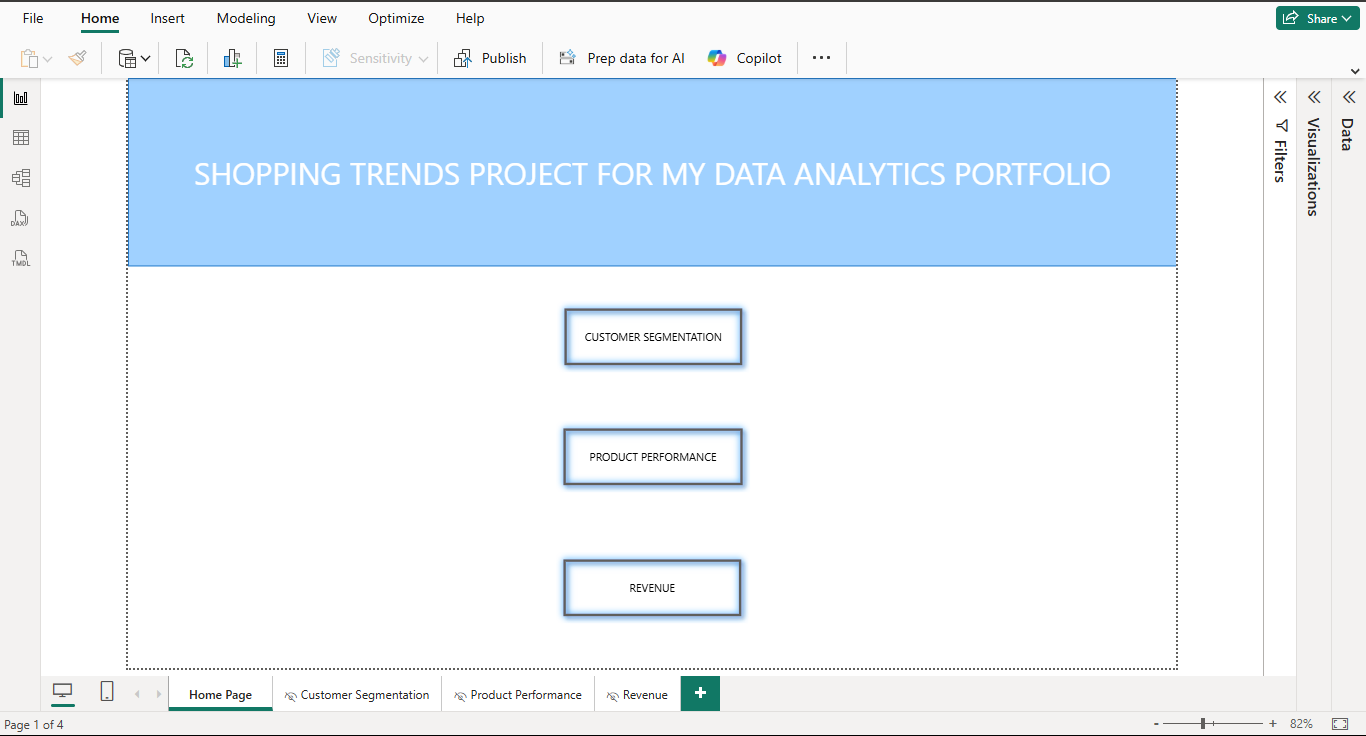

The page's visual inventory and layout, read from the dashboard file:
{"tool":"powerbi","page":{"name":"Home Page","canvas":[1280,720],"ordinal":0},"visuals":[{"type":"shape","box":[0,0,1280,229.8],"z":0},{"type":"actionButton","box":[524.1,272.1,235.2,87.3],"z":0,"group":"g1"},{"type":"actionButton","box":[522.4,418.2,236.9,87.3],"z":1000,"group":"g1"},{"type":"group","id":"g1","title":"Group 1","box":[522.4,272.1,236.9,393.1],"z":1000},{"type":"actionButton","box":[522.4,577.8,235.2,87.3],"z":2000,"group":"g1"}]}

Visuals, with their boxes on the page's 1280x720 design canvas (x1, y1, x2, y2). These are canvas units, not pixel positions in the 1366x736 screenshot, which may show the page scaled, cropped or inside an application window:
shape: 0 0 1280 230
actionButton: 524 272 759 359
actionButton: 522 418 759 506
"Group 1" group: 522 272 759 665
actionButton: 522 578 758 665
